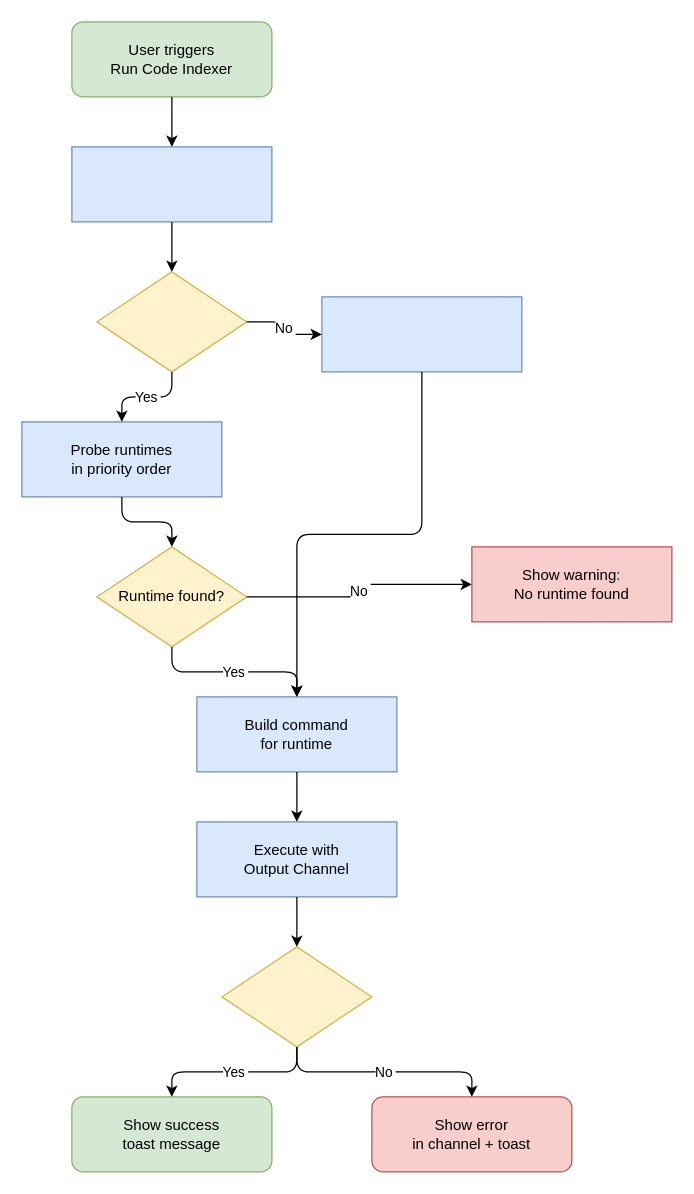
The diagram is 694 pixels wide and 1194 high, and some of its shapes have lost their labels. The centre of each missing label's shape, as x and y in pixels:
"Read preferredIndexer setting" goes at pixel 171 184.
"Setting = auto?" goes at pixel 171 321.
"Success?" goes at pixel 296 996.
"Use specified runtime directly" goes at pixel 421 334.
